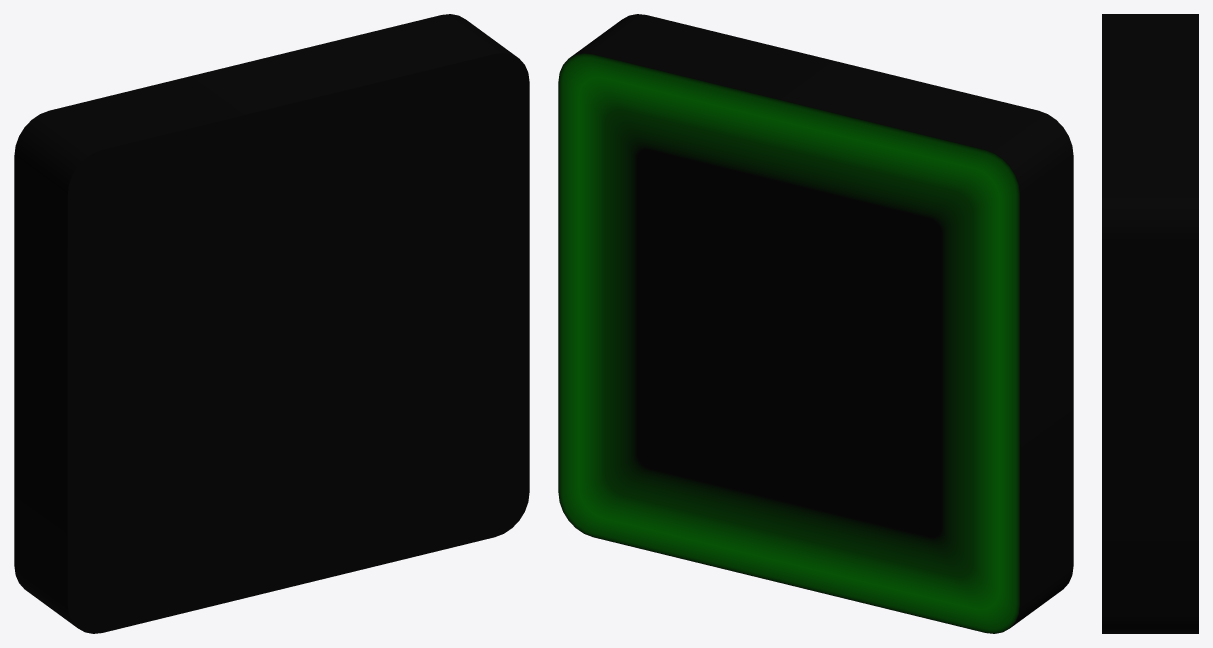
File: ScreenSquareMesh.fbx
3 renders of one model, left to right at view 1: azimuth 30°, elevation 25°; view 2: azimuth 150°, elevation 25°; view 3: azimuth 270°, elevation 25°, orthographic. The views are drawn at different scales.
Visible parts, largest first — view 1: ScreenSquareMesh; view 2: ScreenSquareMesh; view 3: ScreenSquareMesh.
Boxes of the visible parts, bbox=[...] form: ScreenSquareMesh: bbox=[14, 14, 529, 633]; ScreenSquareMesh: bbox=[558, 14, 1073, 633]; ScreenSquareMesh: bbox=[1102, 14, 1198, 633].
Size of the model in its own units: 2 by 2 by 0.4.
